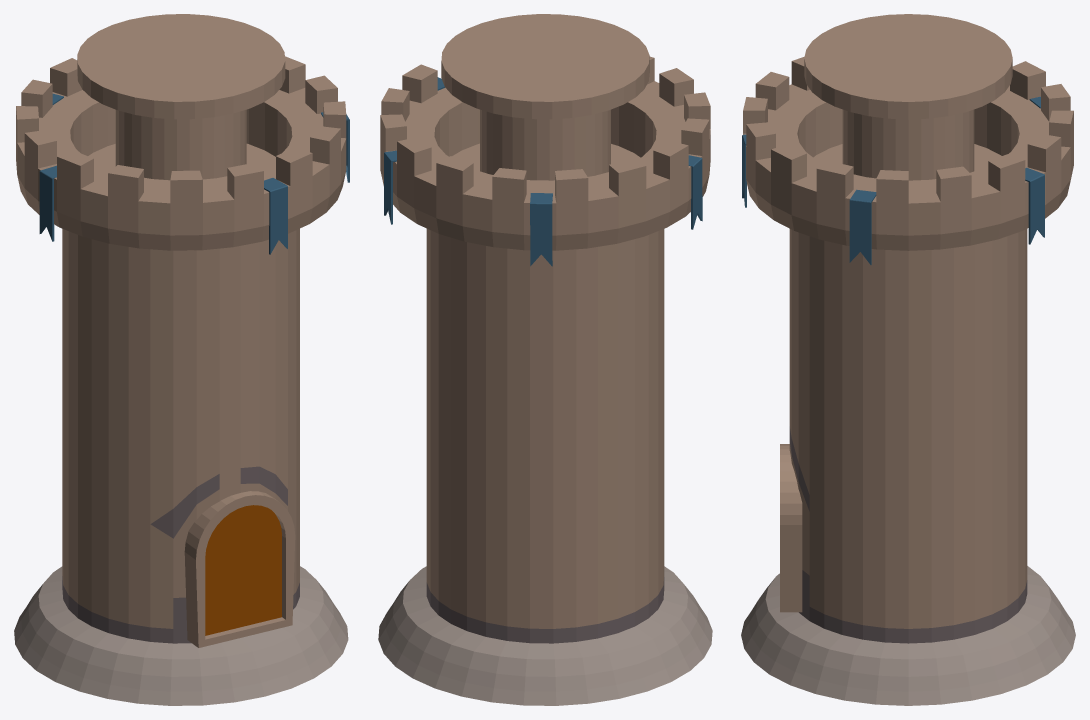
File: towerModelNew.fbx
3 views of the same model, side by side, from view 1: azimuth 30°, elevation 25°; view 2: azimuth 150°, elevation 25°; view 3: azimuth 270°, elevation 25° (orthographic).
Parts seen in each view (by area): view 1: tower_new; view 2: tower_new; view 3: tower_new.
Part boxes in pixels (<box>): tower_new: <box>14,14,349,705</box>; tower_new: <box>378,14,712,705</box>; tower_new: <box>741,14,1075,705</box>.
Bounding box in the file's own units: 453 × 862 × 453.
